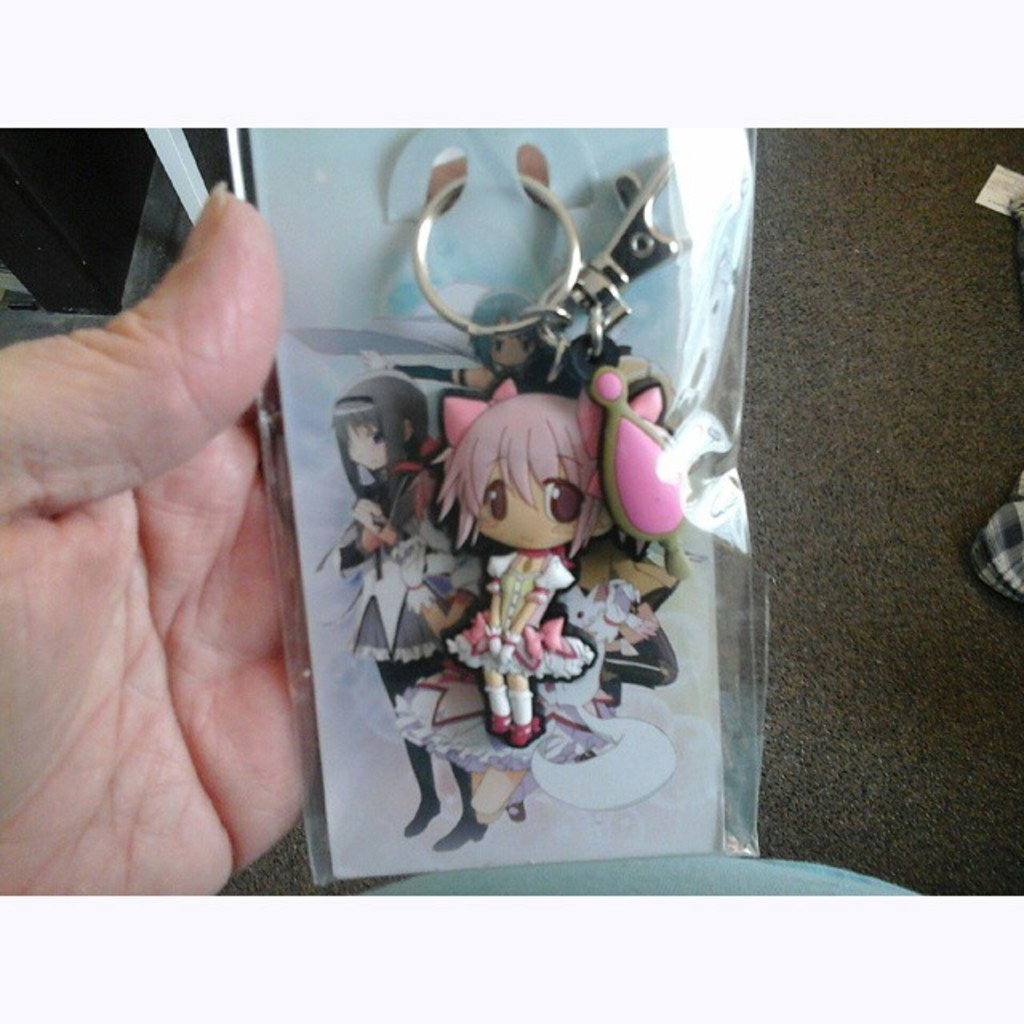Human_hand: (0, 130, 322, 918), (395, 538, 432, 589), (352, 498, 389, 530), (629, 613, 656, 643), (355, 349, 387, 373), (488, 638, 501, 661), (496, 646, 510, 667)
